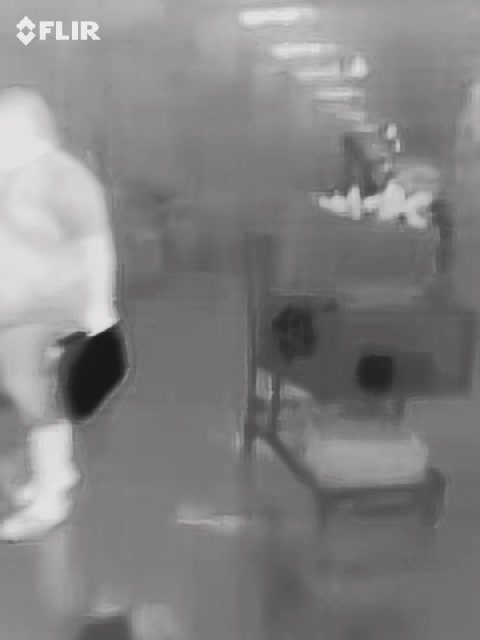head: (1, 89, 56, 160)
